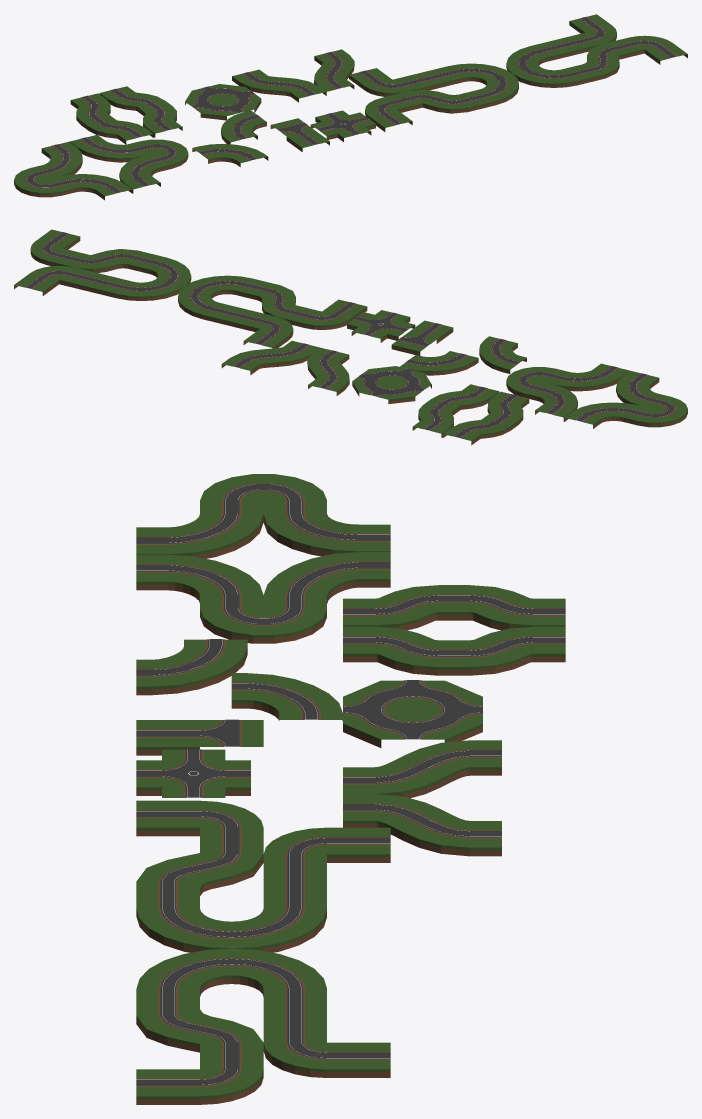
The model's file is roads.fbx.
3 renders of one model, top to bottom at view 1: azimuth 30°, elevation 25°; view 2: azimuth 150°, elevation 25°; view 3: azimuth 270°, elevation 25°, orthographic. The views are drawn at different scales.
Visible parts, largest first — view 1: Plane.011, Plane.012, Plane.003, Plane.002, Plane.009, Plane.014, Plane.013, Plane.007, Plane.006, Plane.004, Plane.005, Plane.001 (+2 smaller); view 2: Plane.012, Plane.011, Plane.003, Plane.002, Plane.009, Plane.014, Plane.013, Plane.006, Plane.007, Plane.004, Plane.001, Plane.005 (+2 smaller); view 3: Plane.012, Plane.011, Plane.002, Plane.003, Plane.013, Plane.014, Plane.009, Plane.006, Plane.007, Plane.004, Plane.005, Plane.001 (+2 smaller).
Part boxes in pixels (bbox=[...]): Plane.011: bbox=[349, 63, 518, 131]; Plane.012: bbox=[506, 14, 687, 87]; Plane.003: bbox=[14, 141, 132, 200]; Plane.002: bbox=[69, 135, 188, 193]; Plane.009: bbox=[185, 84, 261, 120]; Plane.014: bbox=[70, 93, 153, 144]; Plane.013: bbox=[99, 86, 182, 137]; Plane.007: bbox=[232, 69, 326, 102]; Plane.006: bbox=[314, 49, 354, 95]; Plane.004: bbox=[310, 110, 375, 141]; Plane.005: bbox=[192, 144, 268, 167]; Plane.001: bbox=[221, 110, 266, 144]; Plane.012: bbox=[14, 229, 191, 300]; Plane.011: bbox=[178, 275, 367, 348]; Plane.003: bbox=[564, 370, 687, 428]; Plane.002: bbox=[506, 363, 629, 421]; Plane.009: bbox=[352, 366, 431, 403]; Plane.014: bbox=[442, 391, 529, 445]; Plane.013: bbox=[412, 384, 499, 437]; Plane.006: bbox=[221, 340, 319, 375]; Plane.007: bbox=[307, 347, 349, 395]; Plane.004: bbox=[347, 310, 415, 342]; Plane.001: bbox=[400, 351, 478, 375]; Plane.005: bbox=[479, 336, 526, 373]; Plane.012: bbox=[136, 948, 390, 1104]; Plane.011: bbox=[136, 800, 390, 952]; Plane.002: bbox=[136, 552, 390, 643]; Plane.003: bbox=[136, 474, 390, 558]; Plane.013: bbox=[343, 626, 565, 675]; Plane.014: bbox=[343, 585, 565, 630]; Plane.009: bbox=[343, 680, 482, 747]; Plane.006: bbox=[343, 794, 501, 856]; Plane.007: bbox=[343, 740, 501, 798]; Plane.004: bbox=[136, 749, 250, 797]; Plane.005: bbox=[136, 639, 247, 695]; Plane.001: bbox=[231, 673, 342, 720].
Bounding box in the file's own units: 926 × 8.32 × 270.
Materials: 1 (1 with a texture image).
